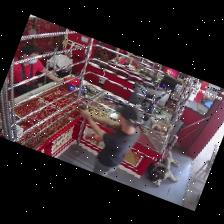person: (80, 106, 139, 176), (13, 59, 47, 83)
